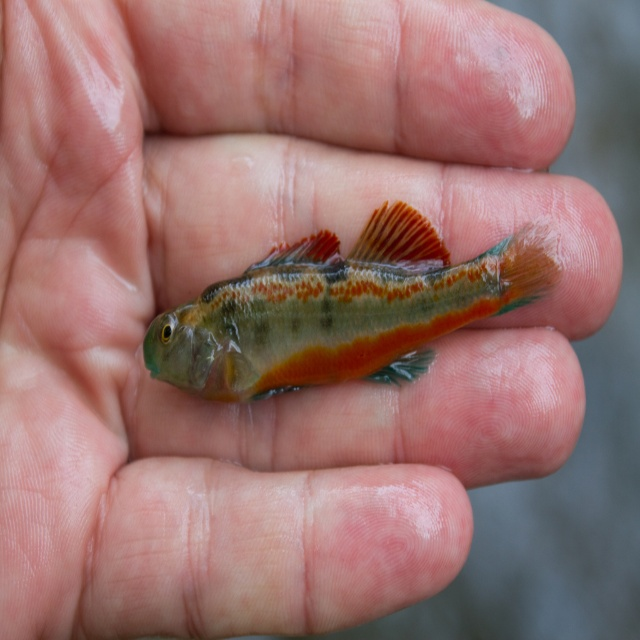Fish: (142, 199, 580, 413)
